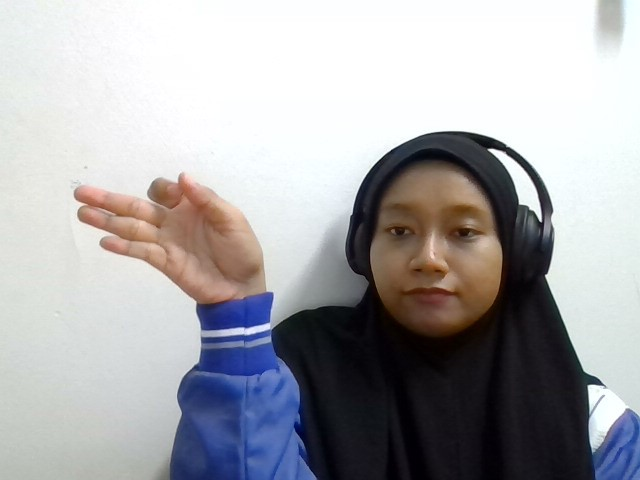Angsa: (74, 172, 267, 304)
